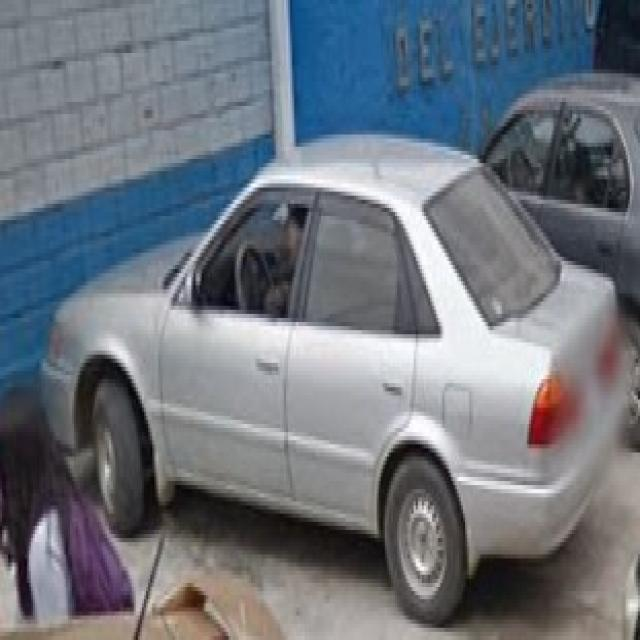Car: (55, 136, 623, 623)
